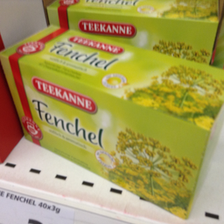tea: (1, 25, 224, 221)
